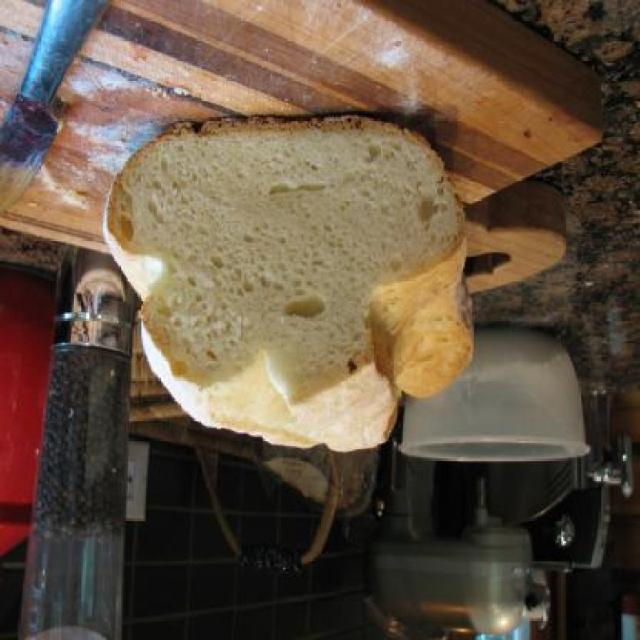Bread: (107, 116, 475, 455)
